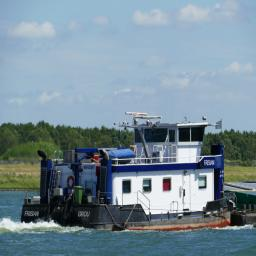tugboat: (20, 111, 239, 239)
